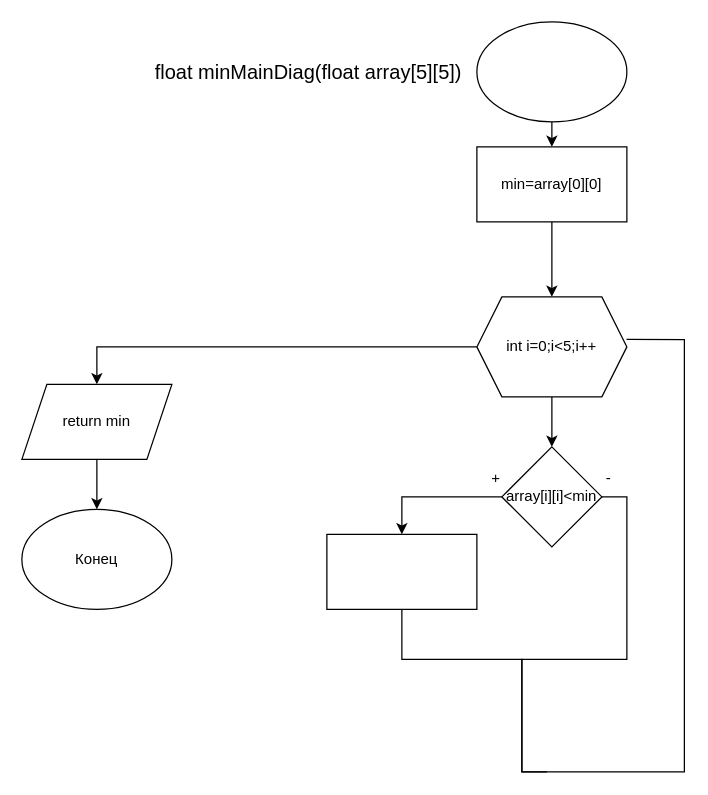
Image size: 708x795. Some labels were removed from this diagram. Here are the shapes that lost their labels. From the top down, the box of each, then its label:
(476, 21, 627, 122): Начало
(326, 533, 477, 609): min = array[i][i]
